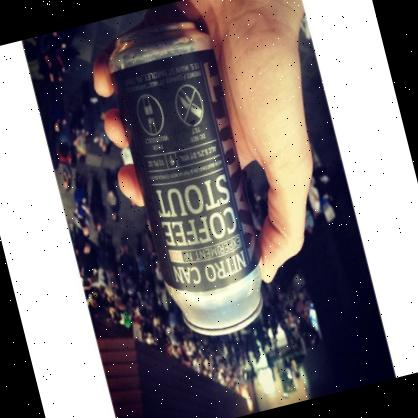can: (92, 10, 282, 352)
